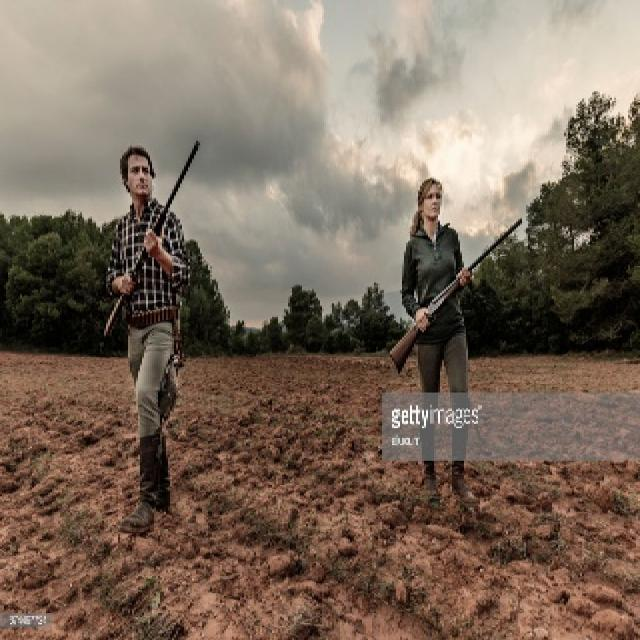weapon: (88, 130, 210, 342), (384, 210, 522, 370)
